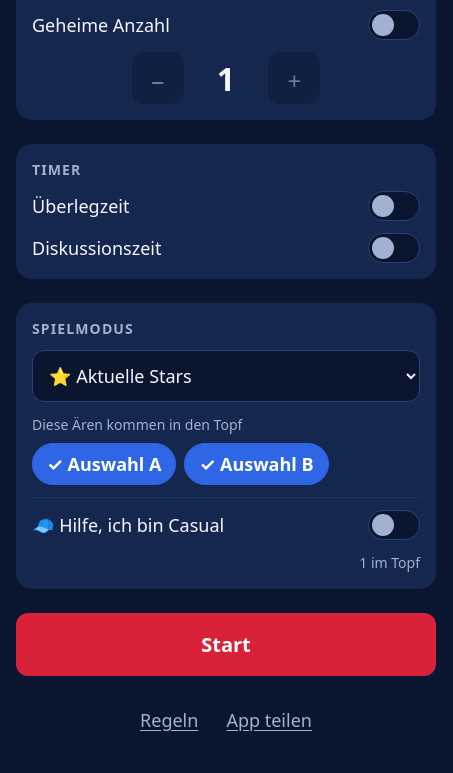
Test: Setup mit Topfoptionen › sperrt Start bei vollständig abgewählten Filtern und erlaubt es nach Wiederwahl
The image size is (453, 773).
(page scrolled)
Click the button "Auswahl A": (104, 464) top-left (32, 443), bottom-right (176, 485)
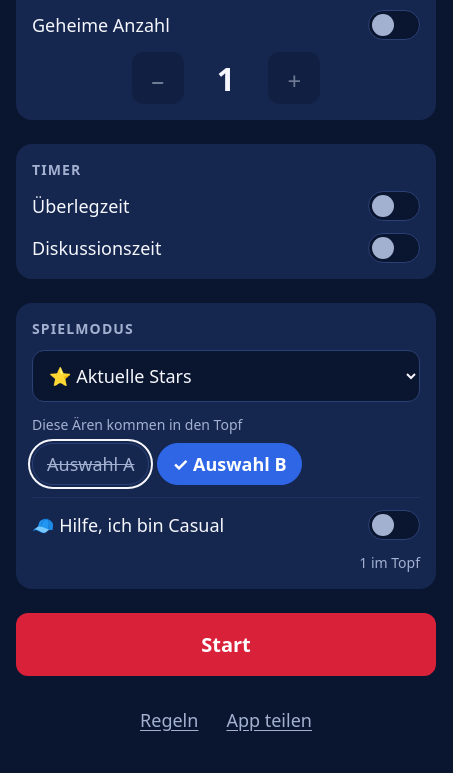
Click the button "Auswahl B": (230, 464) top-left (158, 443), bottom-right (302, 485)
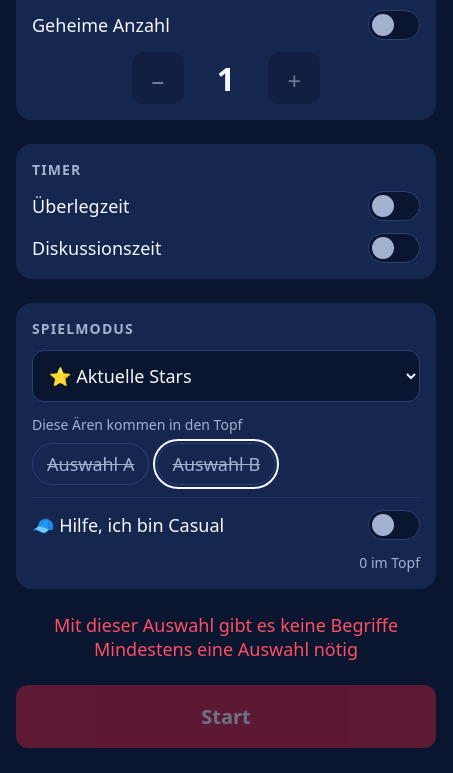
Expected: the list item "Mindestens eine Auswahl nötig" is shown, top-left (94, 637), bottom-right (358, 661)
Expected: the button "Start" is disabled
Click the button "Start": (226, 716) top-left (16, 685), bottom-right (436, 748)
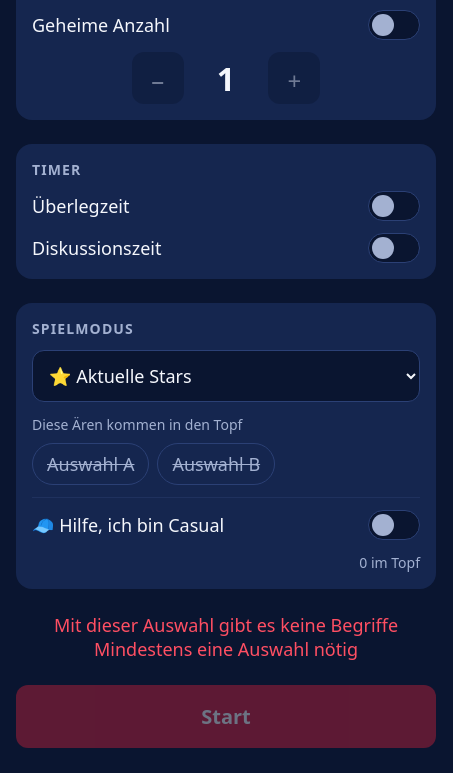
Click the button "Auswahl A": (91, 464) top-left (32, 443), bottom-right (150, 485)
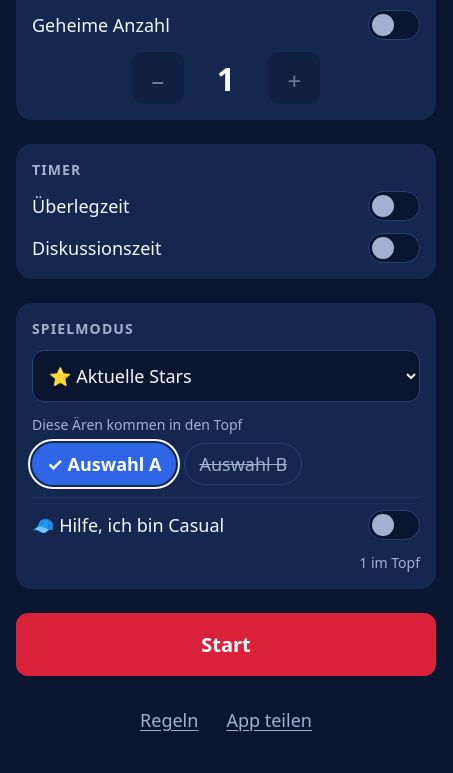
Expected: the list item "Mindestens eine Auswahl nötig" is gone
Expected: the button "Start" is enabled, top-left (16, 613), bottom-right (436, 676)
